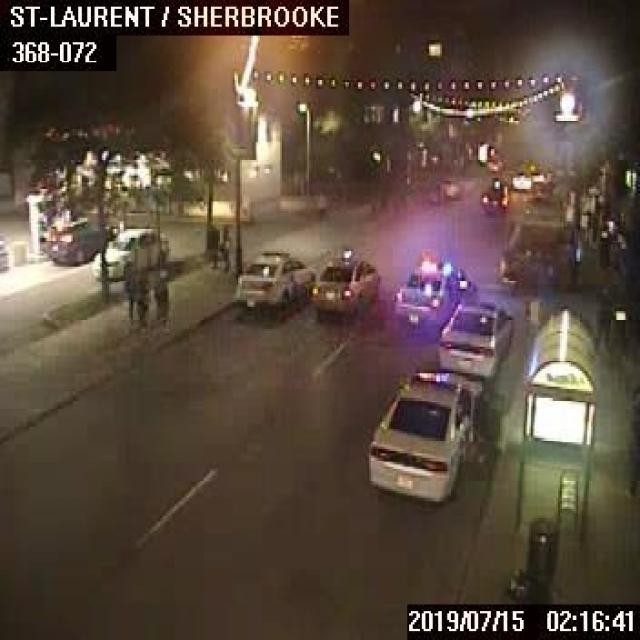pedestrian: (593, 282, 611, 342), (152, 268, 166, 328), (135, 270, 149, 328), (123, 264, 135, 320), (218, 224, 230, 268), (208, 222, 219, 268), (317, 189, 325, 222)
vehicle: (365, 369, 479, 503), (391, 255, 477, 328), (436, 302, 512, 376), (235, 247, 313, 310), (310, 246, 379, 313), (92, 227, 166, 276), (45, 214, 115, 262), (511, 162, 550, 190), (435, 176, 460, 199), (479, 188, 505, 210), (0, 235, 7, 271)
